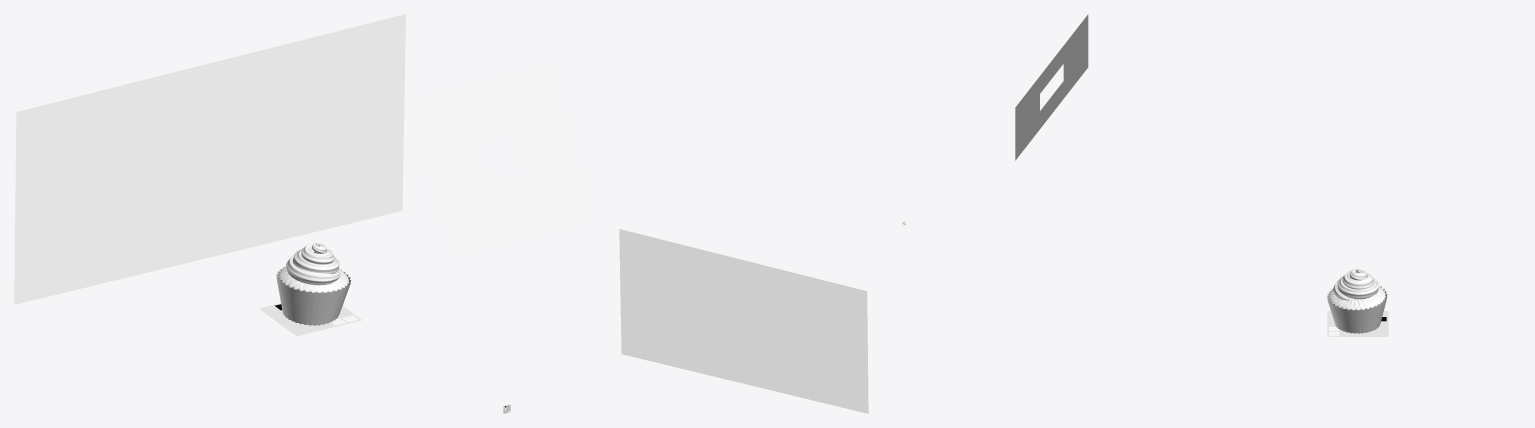
The picture shows the model from 3 angles, left to right: view 1: azimuth 30°, elevation 25°; view 2: azimuth 150°, elevation 25°; view 3: azimuth 270°, elevation 25°; orthographic projection. The views are drawn at different scales.
Parts seen in each view (by area): view 1: MSI_MPG, Border.005, cupcake_01, Materials.0005; view 2: MSI_MPG; view 3: Border.005, cupcake_01, Materials.0005.
Boxes of the visible parts, x1,y1,x2,y2 form: MSI_MPG: [14, 14, 405, 304]; Border.005: [410, 68, 590, 250]; cupcake_01: [276, 243, 351, 325]; Materials.0005: [259, 303, 361, 336]; MSI_MPG: [619, 229, 868, 413]; Border.005: [1015, 14, 1088, 160]; cupcake_01: [1327, 269, 1387, 333]; Materials.0005: [1327, 311, 1388, 336].
Size of the model in its own units: 12.36 by 11.12 by 17.11.
49 materials, 1 textured.
